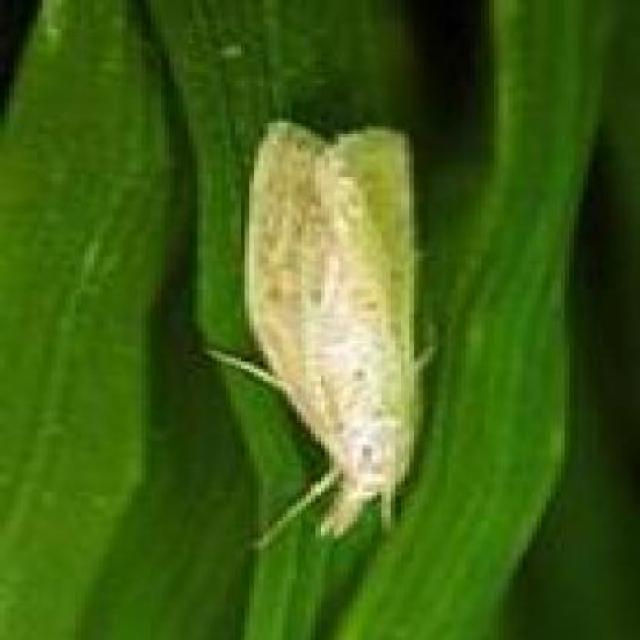stem-borer: (195, 115, 438, 552)
